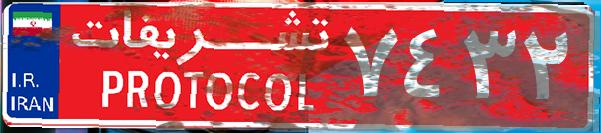2: (520, 20, 580, 115)
3: (460, 20, 520, 115)
4: (400, 20, 460, 115)
7: (340, 20, 400, 115)
تشریفات: (60, 8, 340, 125)
